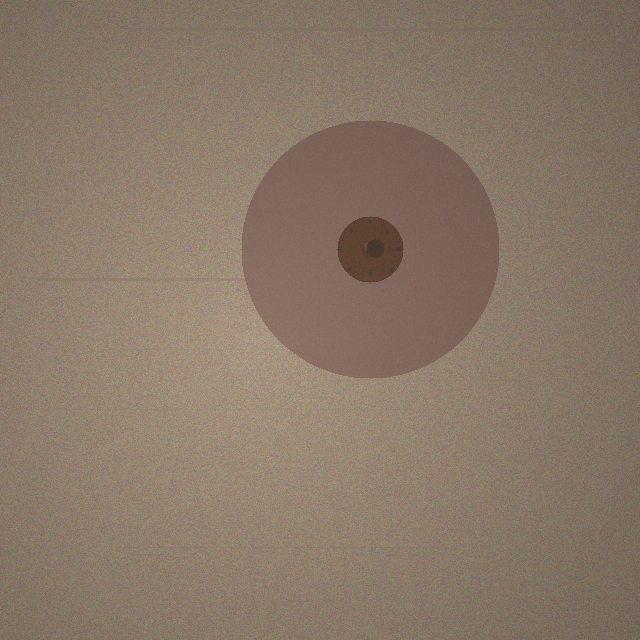cold_weld: (241, 120, 499, 378)
